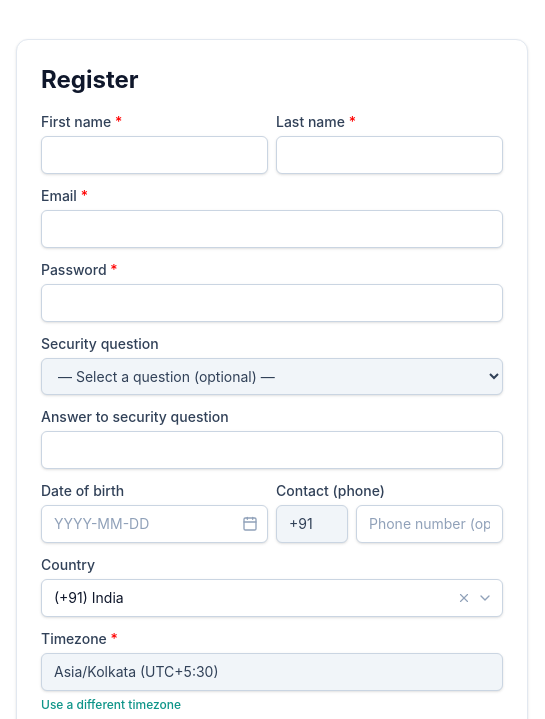
Test case: RegisterPage › disables submit while password fails the validation rules
The width and height of the screenshot is (545, 719).
expect the dropdown showing "(+91) India" is shown: met, box [41,579,503,617]
Type "weak" into the password field labelled "Password *" at (272, 303), box [41,284,503,322]
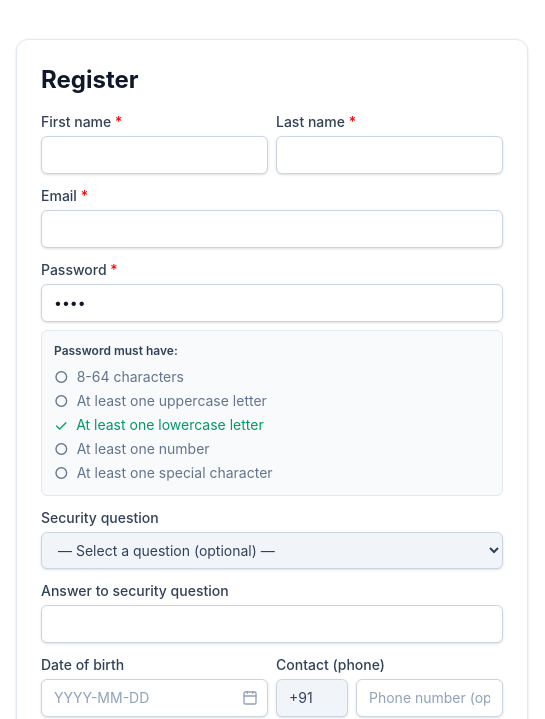
expect the text "Password must have:" is shown: met, box [54,343,178,358]
Type "SecurePass123!" into the password field labelled "Password *" at (272, 303), box [41,284,503,322]
(page scrolled)
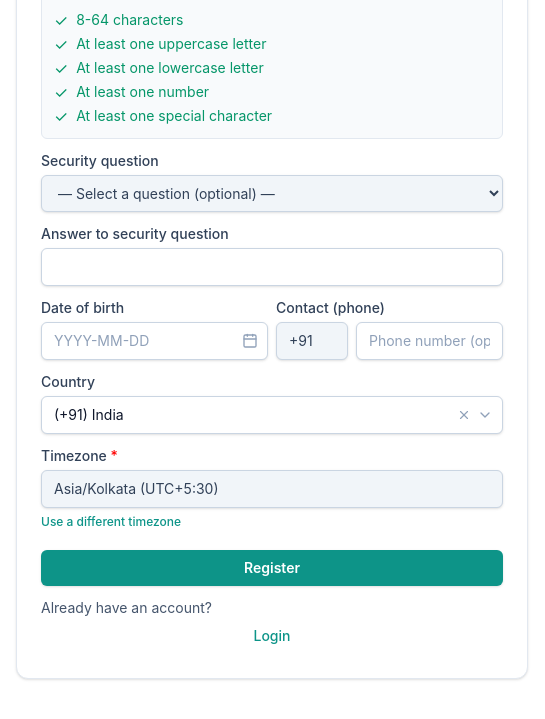
expect the button "Register" is enabled: met, box [41,550,503,586]
